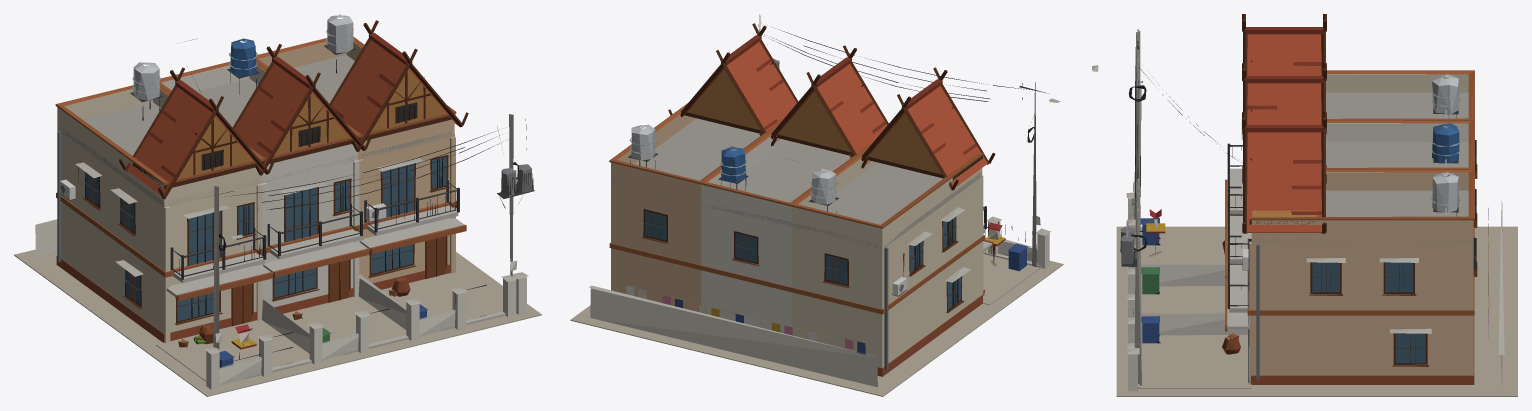
The model's file is home_3.glb.
3 renders of one model, left to right at view 1: azimuth 30°, elevation 25°; view 2: azimuth 150°, elevation 25°; view 3: azimuth 270°, elevation 25°, orthographic. The views are drawn at different scales.
Visible parts, largest first — view 1: body, windows; view 2: body, windows; view 3: body, windows.
Boxes of the visible parts, left/top/right/bottom form: body: left=14, top=14, right=541, bottom=396; windows: left=85, top=102, right=446, bottom=321; body: left=570, top=14, right=1063, bottom=396; windows: left=644, top=101, right=1057, bottom=309; body: left=1092, top=14, right=1517, bottom=396; windows: left=1093, top=70, right=1474, bottom=363.
Size of the model in its own units: 15.9 by 11.09 by 16.88.
